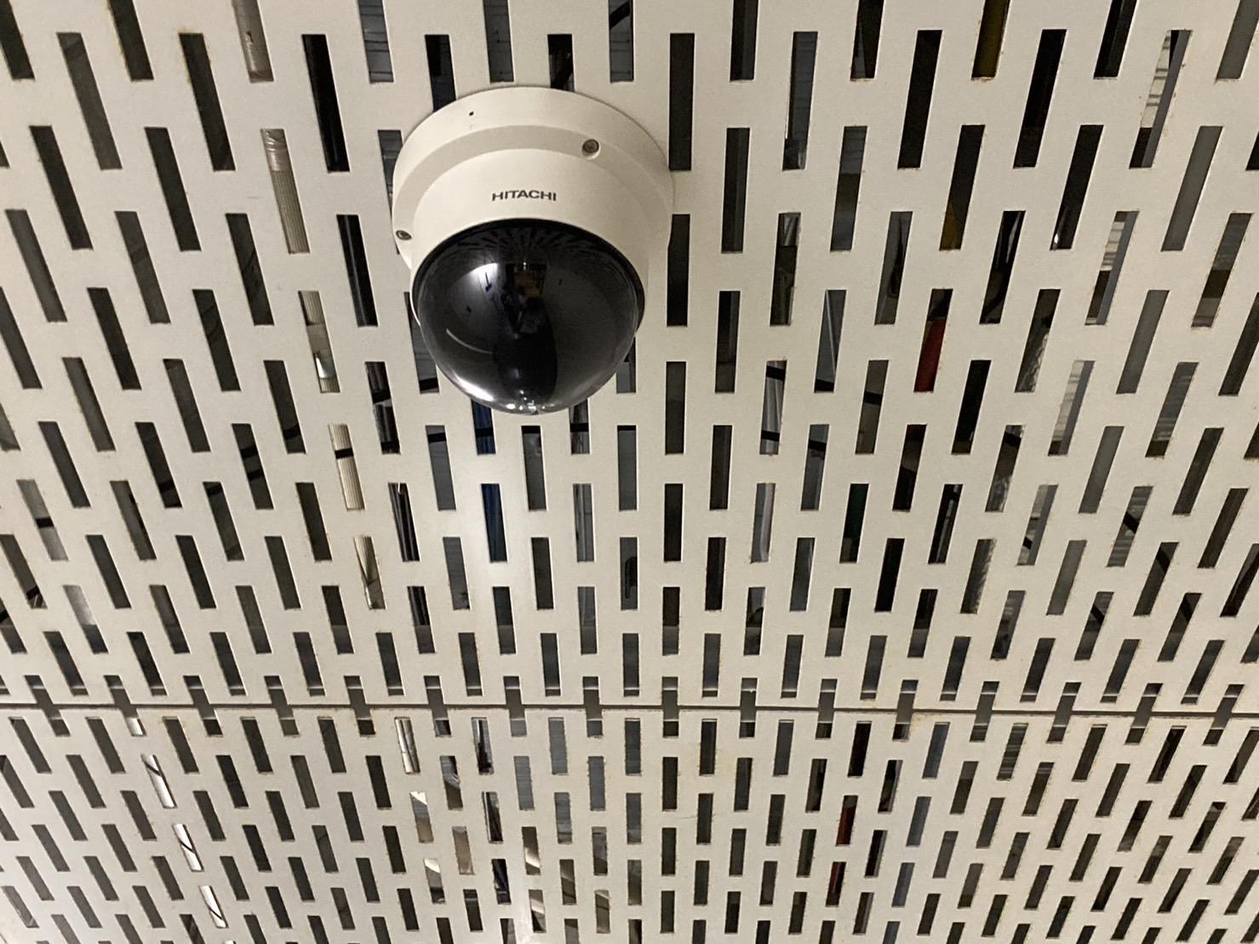maru: (398, 75, 676, 434)
